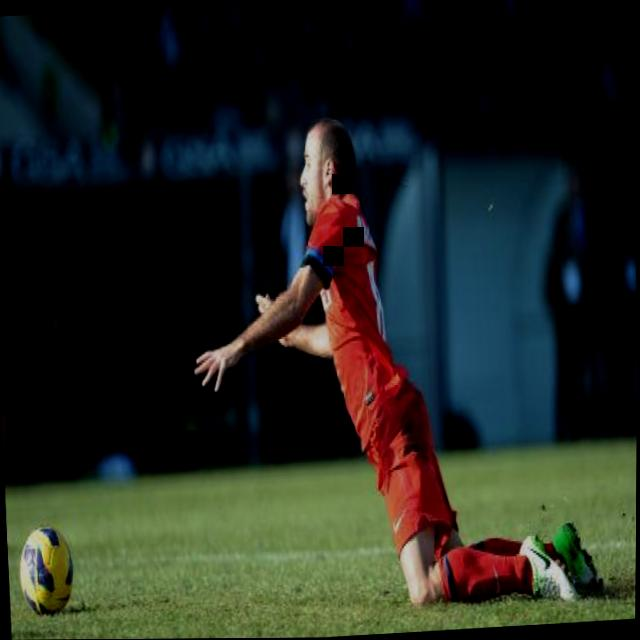Fall-Detected: (169, 113, 626, 601)
